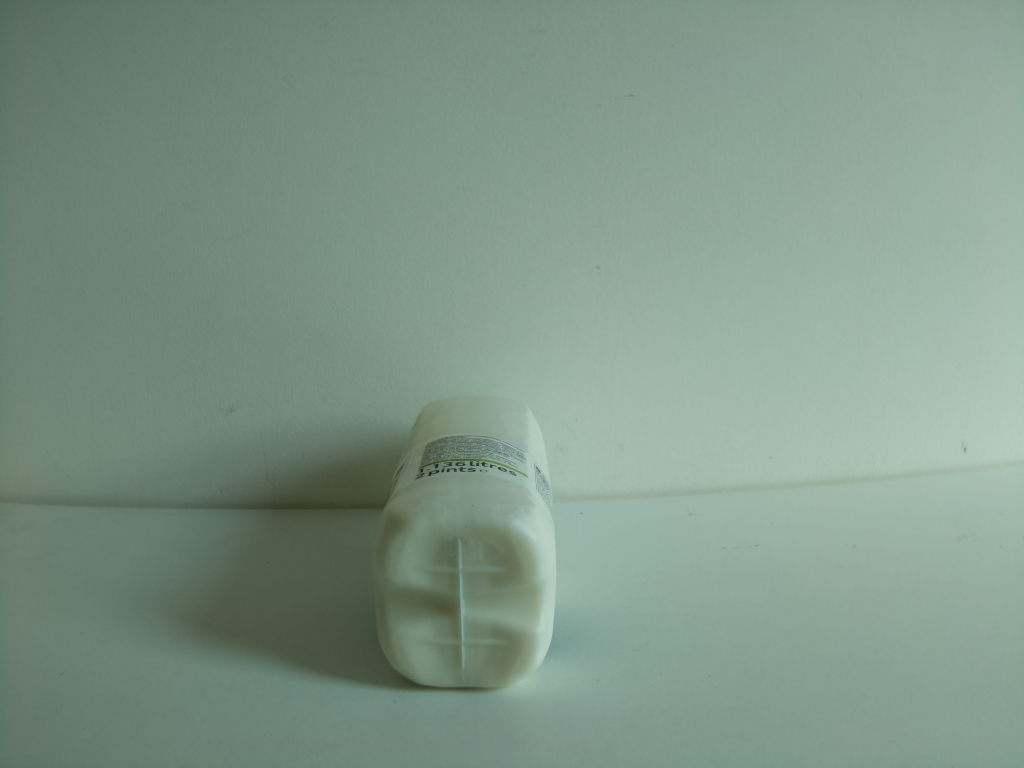milk: (366, 387, 568, 701)
